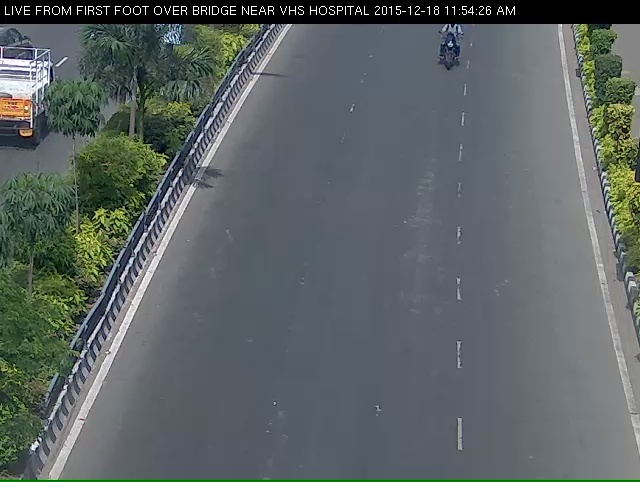Person: (430, 21, 465, 74)
